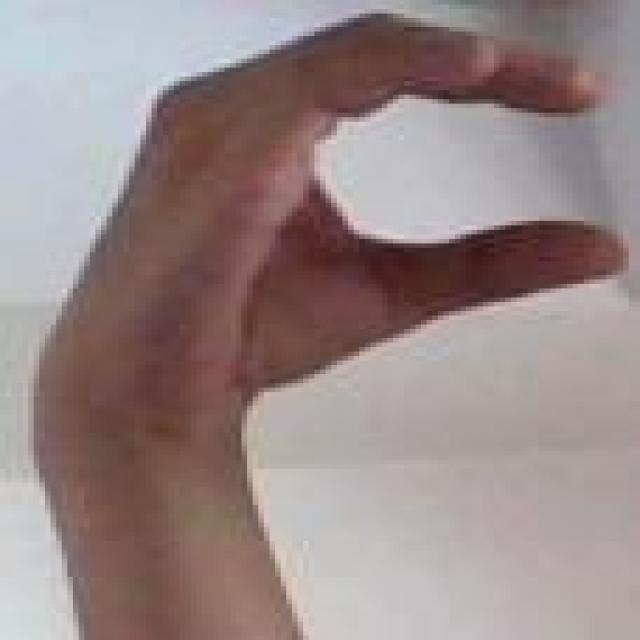C: (3, 3, 640, 427)
